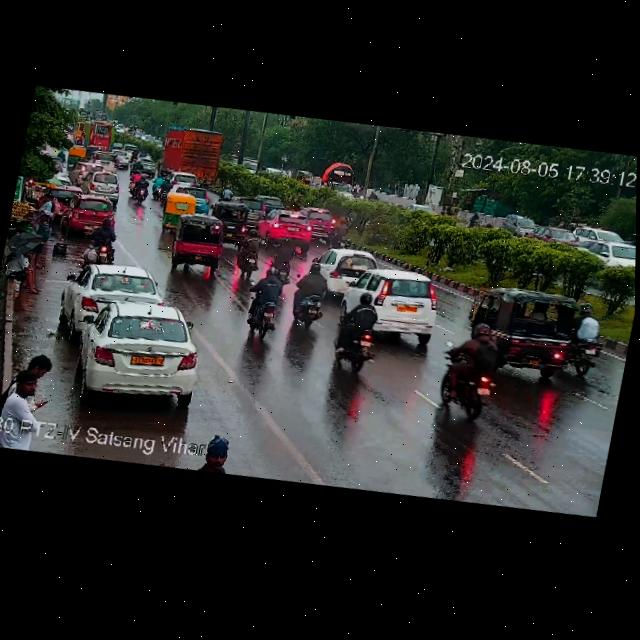bus: (67, 115, 119, 152)
car: (60, 290, 208, 414), (469, 275, 587, 380), (340, 257, 451, 350), (59, 253, 169, 334), (519, 208, 636, 275), (309, 238, 405, 305), (168, 209, 231, 268), (255, 205, 315, 256), (61, 190, 117, 235), (208, 200, 258, 244), (160, 191, 197, 232), (211, 198, 251, 230), (83, 168, 124, 198), (306, 207, 340, 240), (52, 180, 79, 215), (236, 195, 271, 221), (63, 140, 93, 166), (91, 147, 121, 172), (169, 170, 204, 191), (191, 186, 215, 215), (114, 149, 132, 170), (142, 158, 158, 175)
motorcycle: (430, 313, 508, 425), (325, 279, 386, 375), (240, 264, 291, 345), (288, 261, 328, 333), (570, 305, 608, 376), (235, 227, 265, 277), (88, 216, 121, 260), (267, 235, 297, 282), (126, 171, 151, 206), (150, 172, 170, 200), (131, 158, 158, 178), (219, 184, 234, 200), (130, 147, 138, 162)
person: (0, 241, 53, 299), (2, 365, 47, 417), (202, 431, 238, 476), (27, 211, 51, 267), (25, 351, 51, 377), (38, 192, 59, 217)
truck: (158, 121, 232, 187), (317, 160, 358, 197)
